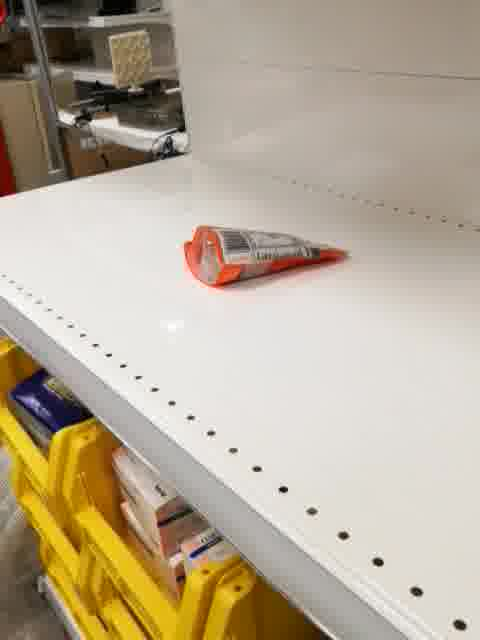whitechia: (181, 223, 353, 289)
